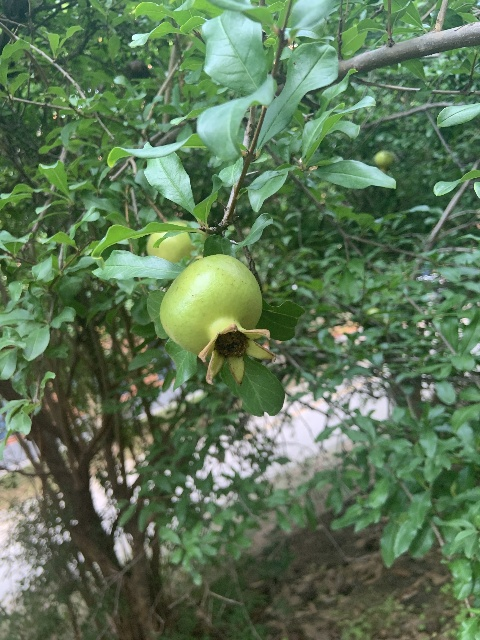mid-growth: (159, 253, 276, 386), (145, 221, 203, 266), (373, 150, 393, 173)
